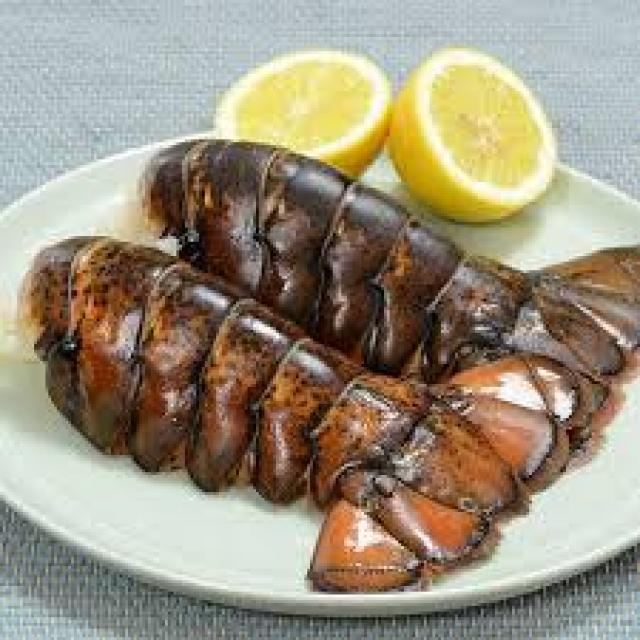lemon: (395, 44, 554, 212), (272, 43, 388, 161)
lobster tail: (47, 343, 490, 597), (225, 199, 640, 379)
